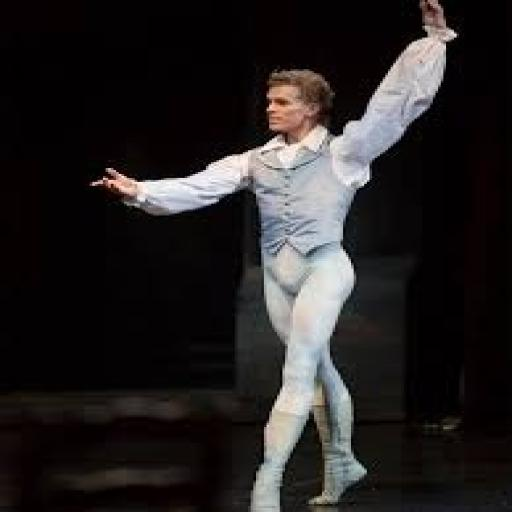dancing: (87, 0, 462, 510)
